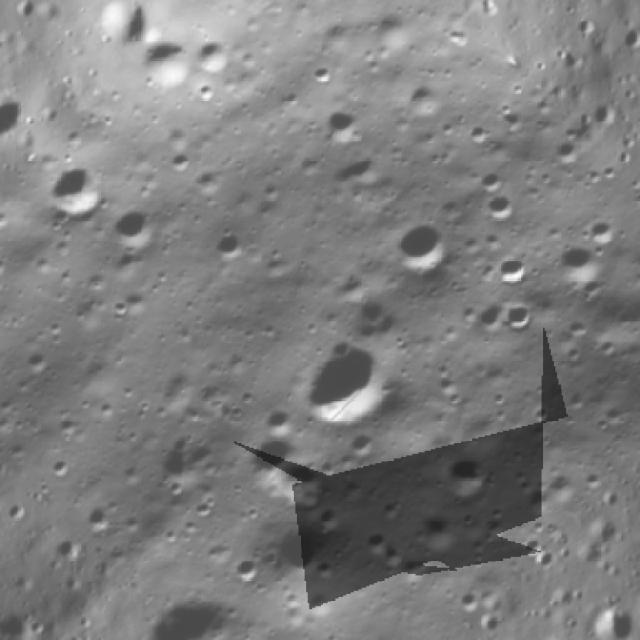crater: (277, 320, 411, 454), (256, 512, 344, 599), (382, 208, 464, 290), (130, 26, 212, 108), (38, 154, 117, 232), (147, 430, 224, 507), (261, 444, 336, 519), (339, 288, 412, 361), (430, 441, 502, 514), (546, 231, 616, 300), (100, 192, 169, 262), (323, 140, 389, 206), (406, 500, 469, 562), (312, 95, 374, 157), (362, 1, 424, 62), (184, 26, 244, 86), (395, 73, 454, 132), (202, 223, 256, 277), (178, 429, 230, 480), (477, 182, 526, 232), (223, 542, 272, 592), (111, 280, 160, 329), (466, 290, 514, 339), (489, 245, 537, 293), (515, 477, 563, 525), (499, 292, 547, 339), (540, 462, 586, 508), (15, 340, 60, 385), (110, 241, 155, 285), (391, 547, 435, 591), (78, 499, 122, 543), (544, 134, 587, 177), (112, 452, 154, 494), (584, 209, 624, 249), (597, 392, 637, 432), (359, 522, 398, 561), (474, 164, 512, 201), (450, 583, 488, 620), (493, 102, 529, 138), (189, 491, 225, 527), (45, 451, 80, 487), (50, 408, 84, 442), (576, 462, 610, 496), (516, 530, 546, 561), (528, 398, 558, 428), (0, 250, 17, 284), (241, 629, 277, 640)
